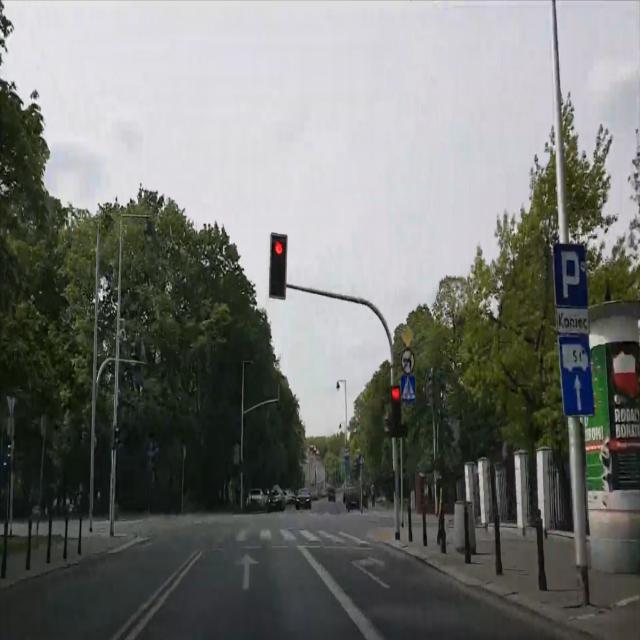Droga z pierwszenstwem: (402, 325, 414, 347)
Przejscie dla pieszych: (401, 376, 415, 400)
